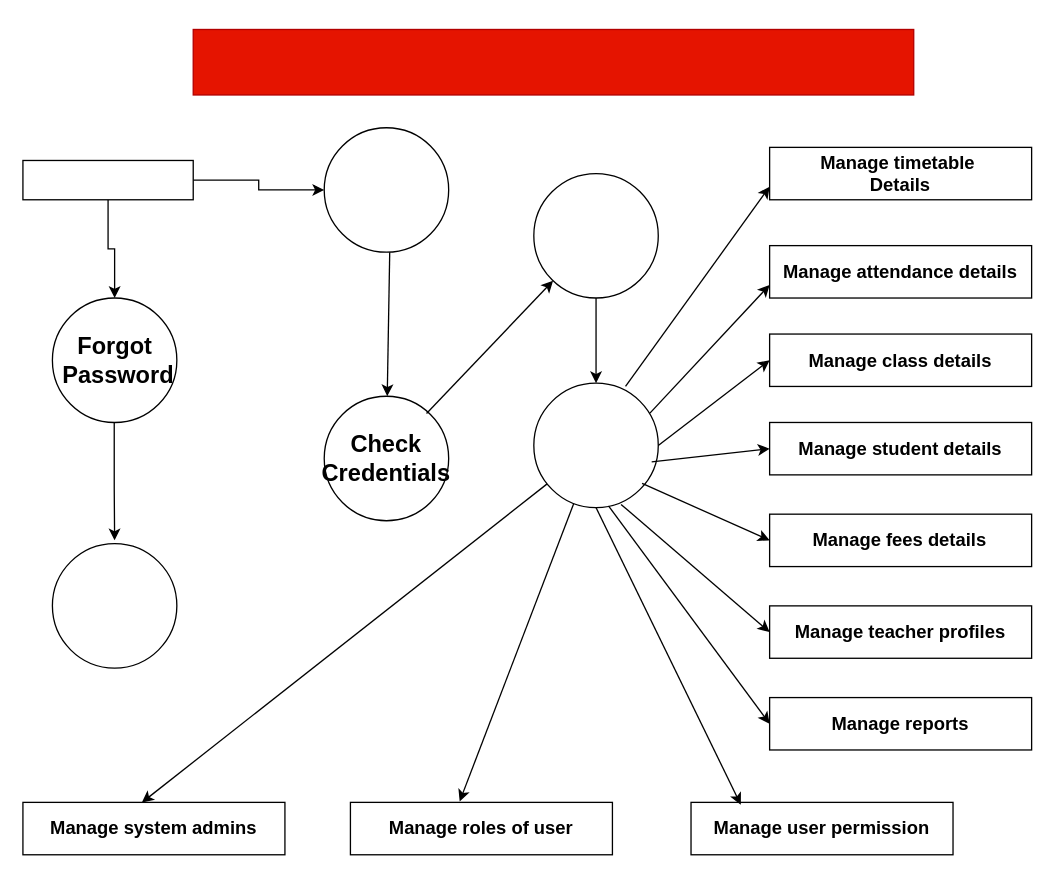
Image size: 1055x880. Some labels were removed from this diagram. Each missing label, with the box of its shape:
Admin: (22, 159, 193, 200)
Check roles access: (533, 172, 658, 298)
Login to System: (323, 126, 449, 252)
Manage Modules: (533, 382, 658, 508)
Send email to User: (51, 542, 177, 668)
Student Information System: (192, 28, 914, 95)
